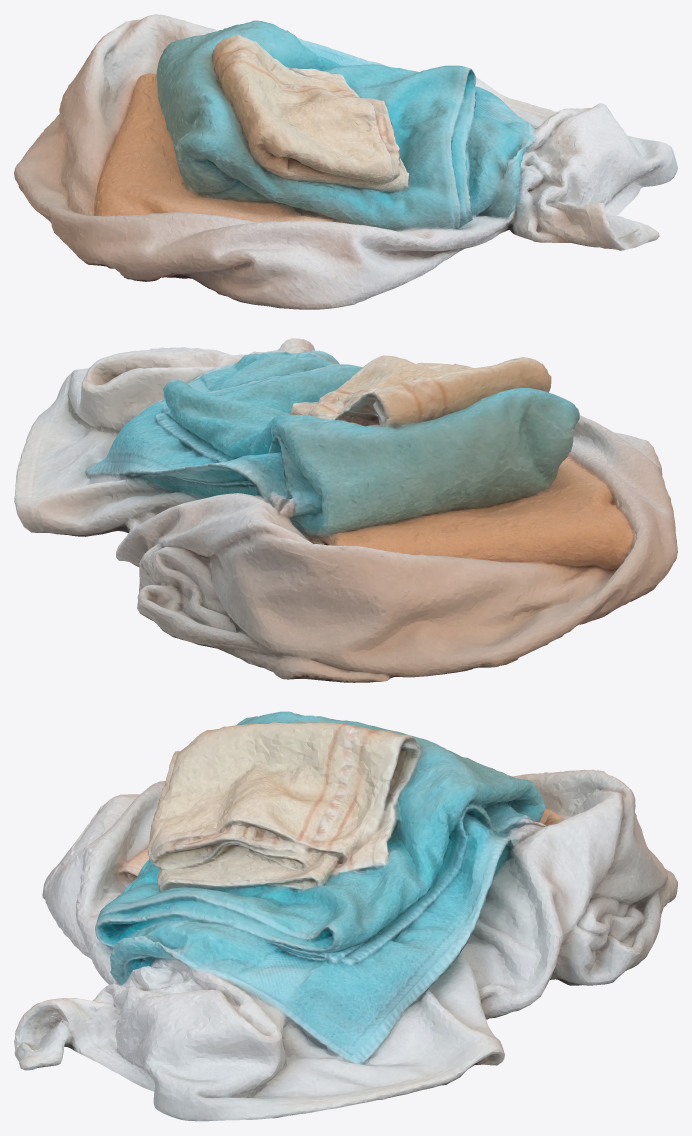
The model's file is sf-towels-ii-f3dfec.glb.
3 renders of one model, top to bottom at view 1: azimuth 30°, elevation 25°; view 2: azimuth 150°, elevation 25°; view 3: azimuth 270°, elevation 25°, orthographic. The views are drawn at different scales.
Visible parts, largest first — view 1: Towel_II_Towel_II_u1_v1_0; view 2: Towel_II_Towel_II_u1_v1_0; view 3: Towel_II_Towel_II_u1_v1_0.
Boxes of the visible parts, box(x1,y1,x2,y2) form: Towel_II_Towel_II_u1_v1_0: box(14, 14, 677, 309); Towel_II_Towel_II_u1_v1_0: box(14, 338, 677, 682); Towel_II_Towel_II_u1_v1_0: box(14, 711, 677, 1121).
Bounding box in the file's own units: 0.6536 × 0.173 × 0.5737.
1 material, 1 textured.
